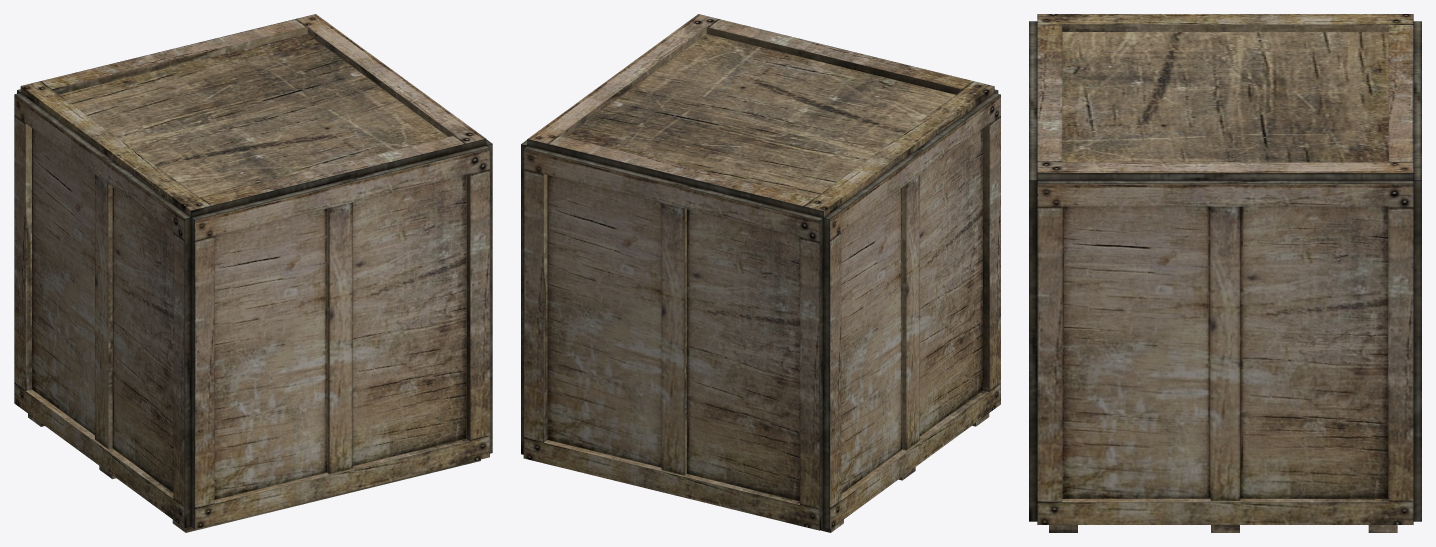
File: crate.obj
3 renders of one model, left to right at view 1: azimuth 30°, elevation 25°; view 2: azimuth 150°, elevation 25°; view 3: azimuth 270°, elevation 25°, orthographic. The views are drawn at different scales.
Parts seen in each view (by area): view 1: PackingCrate; view 2: PackingCrate; view 3: PackingCrate.
Boxes of the visible parts, x1,y1,x2,y2 form: PackingCrate: (14, 14, 492, 532); PackingCrate: (521, 14, 1000, 532); PackingCrate: (1029, 14, 1421, 532).
Size of the model in its own units: 157 by 158 by 157.
